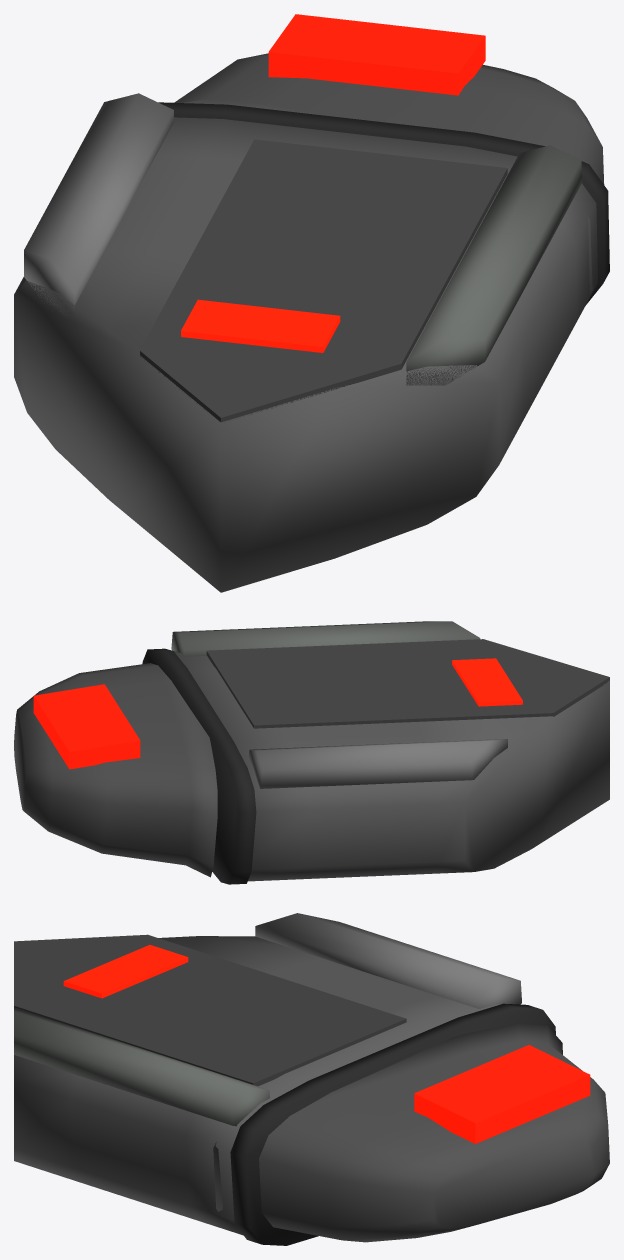
File: newshg-167.glb
3 views of the same model, one above another, from view 1: azimuth 30°, elevation 25°; view 2: azimuth 150°, elevation 25°; view 3: azimuth 270°, elevation 25° (orthographic). The views are drawn at different scales.
Visible parts, largest first — view 1: newshg-167; view 2: newshg-167; view 3: newshg-167.
Part boxes in pixels (x1,y1,x2,y2): newshg-167: (14, 14, 609, 592); newshg-167: (14, 621, 609, 884); newshg-167: (14, 913, 609, 1245).
Size of the model in its own units: 1.24 by 0.4625 by 1.3.
